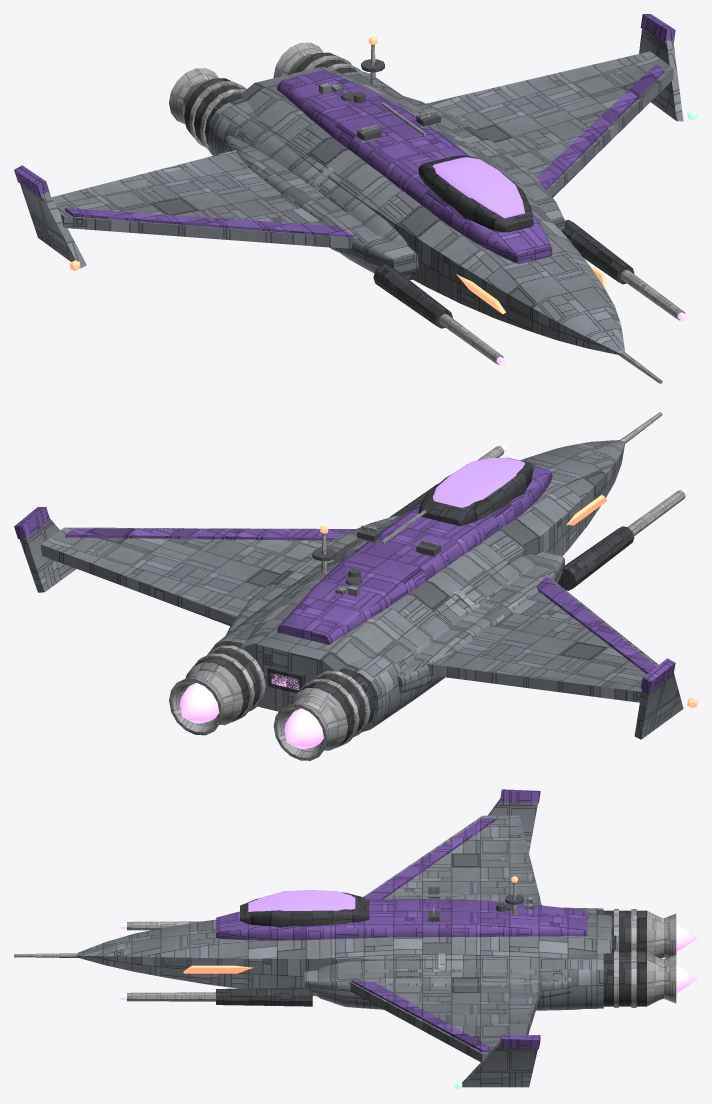
Rendered from drone_wreck.glb.
3 views of the same model, one above another, from view 1: azimuth 30°, elevation 25°; view 2: azimuth 150°, elevation 25°; view 3: azimuth 270°, elevation 25° (orthographic). The views are drawn at different scales.
Visible parts, largest first — view 1: drone_wreck_02, drone_wreck_07, drone_wreck_01, drone_wreck_05, drone_wreck_06, drone_wreck_00, drone_wreck_08, drone_wreck_10, drone_wreck_03, drone_wreck_11, drone_wreck_04, drone_wreck_09; view 2: drone_wreck_05, drone_wreck_01, drone_wreck_08, drone_wreck_07, drone_wreck_00, drone_wreck_04, drone_wreck_06, drone_wreck_11, drone_wreck_02, drone_wreck_10, drone_wreck_03, drone_wreck_09; view 3: drone_wreck_08, drone_wreck_03, drone_wreck_02, drone_wreck_04, drone_wreck_00, drone_wreck_01, drone_wreck_06, drone_wreck_10, drone_wreck_11, drone_wreck_05, drone_wreck_09, drone_wreck_07.
Part boxes in pixels (bbox=[...]): drone_wreck_02: bbox=[441, 189, 687, 361]; drone_wreck_07: bbox=[309, 164, 499, 328]; drone_wreck_01: bbox=[280, 92, 487, 214]; drone_wreck_05: bbox=[156, 73, 346, 184]; drone_wreck_06: bbox=[116, 170, 321, 245]; drone_wreck_00: bbox=[521, 14, 697, 152]; drone_wreck_08: bbox=[339, 36, 591, 165]; drone_wreck_10: bbox=[14, 165, 154, 270]; drone_wreck_03: bbox=[471, 140, 622, 273]; drone_wreck_11: bbox=[169, 68, 289, 151]; drone_wreck_04: bbox=[273, 42, 391, 88]; drone_wreck_09: bbox=[493, 321, 662, 383]; drone_wreck_05: bbox=[295, 584, 518, 727]; drone_wreck_01: bbox=[344, 485, 522, 626]; drone_wreck_08: bbox=[154, 525, 348, 634]; drone_wreck_07: bbox=[457, 464, 634, 599]; drone_wreck_00: bbox=[14, 507, 241, 597]; drone_wreck_04: bbox=[169, 612, 299, 735]; drone_wreck_06: bbox=[475, 590, 648, 687]; drone_wreck_11: bbox=[273, 646, 373, 760]; drone_wreck_02: bbox=[429, 442, 683, 539]; drone_wreck_10: bbox=[519, 656, 697, 739]; drone_wreck_03: bbox=[240, 460, 489, 553]; drone_wreck_09: bbox=[587, 412, 687, 499]; drone_wreck_08: bbox=[404, 876, 570, 1020]; drone_wreck_03: bbox=[228, 900, 405, 1019]; drone_wreck_02: bbox=[111, 895, 279, 1005]; drone_wreck_04: bbox=[560, 921, 697, 1009]; drone_wreck_00: bbox=[402, 1008, 540, 1089]; drone_wreck_01: bbox=[330, 884, 512, 961]; drone_wreck_06: bbox=[369, 833, 532, 900]; drone_wreck_10: bbox=[457, 789, 540, 868]; drone_wreck_11: bbox=[600, 909, 697, 958]; drone_wreck_05: bbox=[481, 869, 609, 1010]; drone_wreck_09: bbox=[14, 922, 129, 966]; drone_wreck_07: bbox=[270, 890, 382, 901].
Size of the model in its own units: 3.66 by 0.989 by 4.23.
10 materials, 5 textured.
